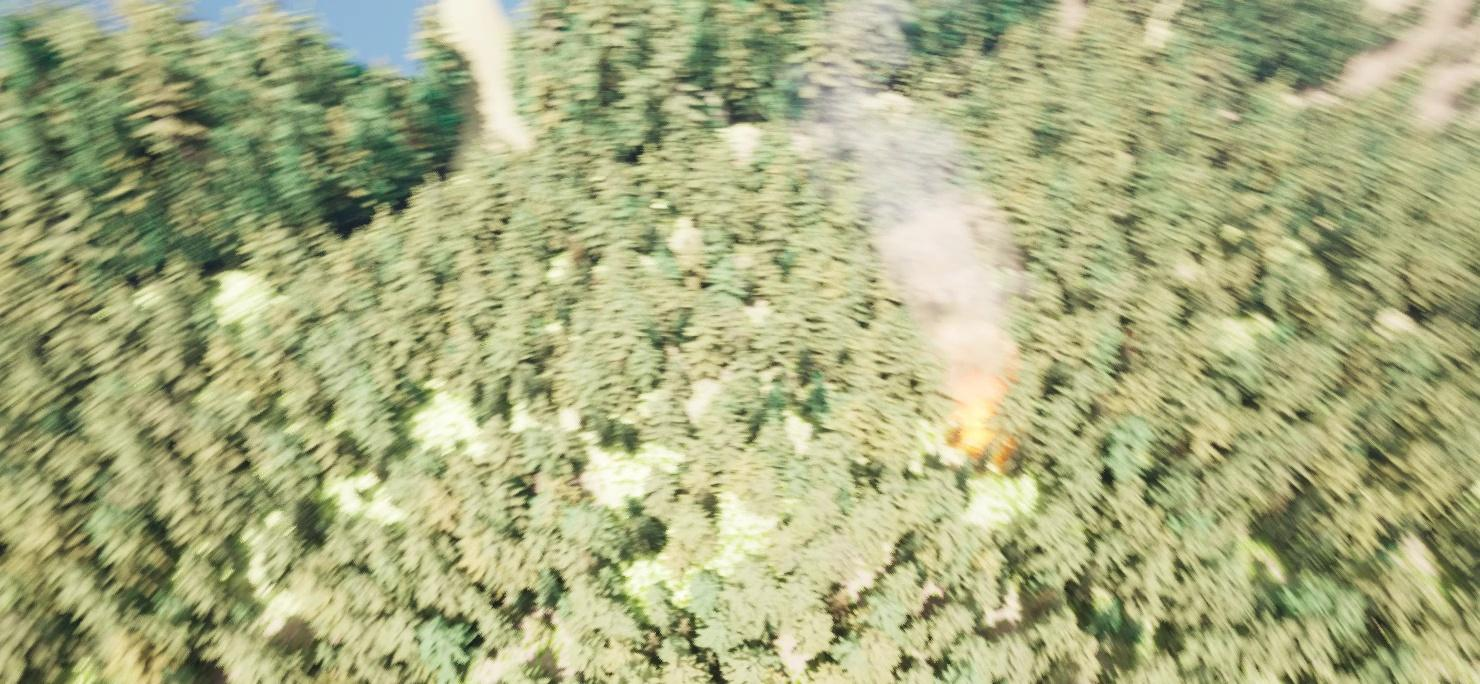fire: (934, 404, 1006, 458)
smoke: (790, 58, 1041, 393)
